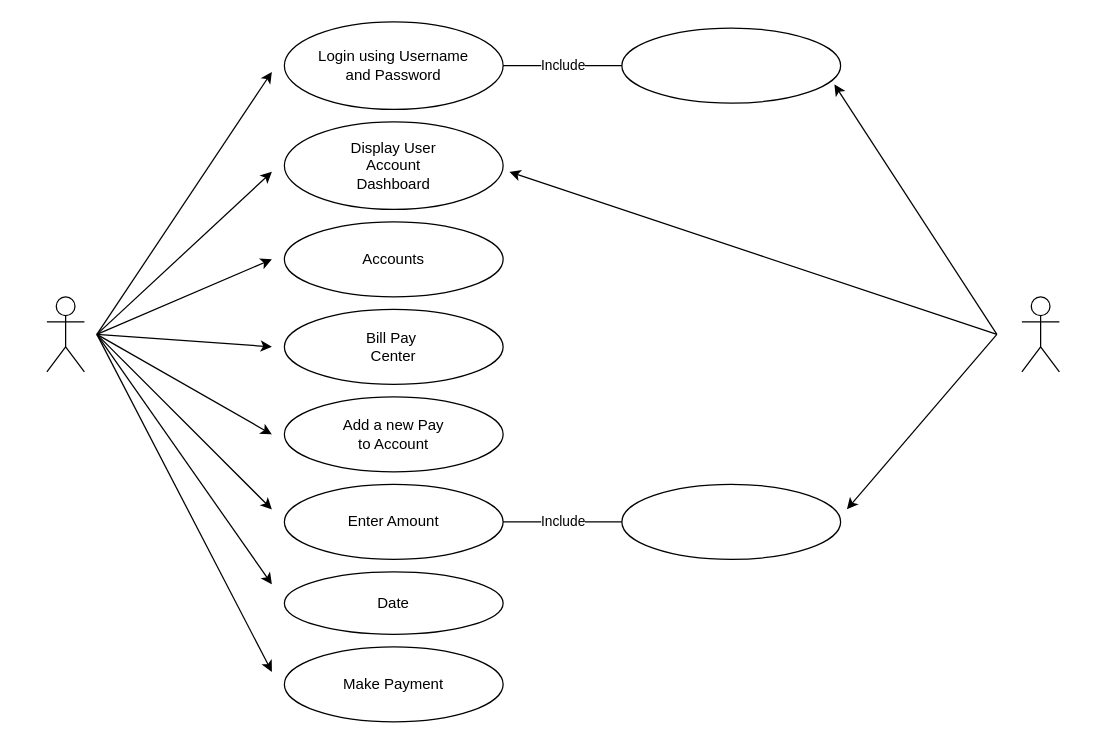
Some shapes in this 1104 by 744 pixel diagram are drawn without their labels. The centre of each missing label's shape, as x and y in pixels:
"Bank Server" goes at (x=1040, y=334).
"Check Balance" goes at (x=731, y=521).
"Existing User" goes at (x=65, y=334).
"Verify Username and Password" goes at (x=731, y=65).
